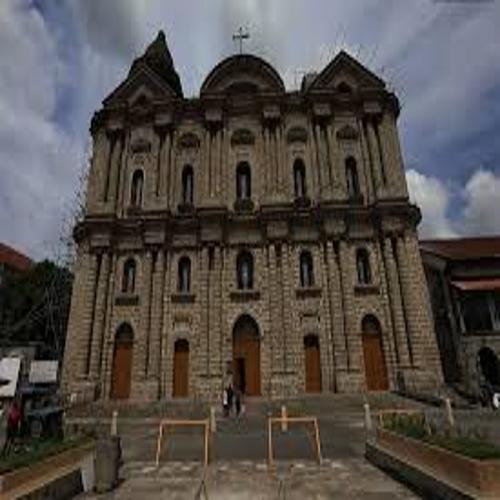Taal Basilica Church: (64, 20, 448, 416)
